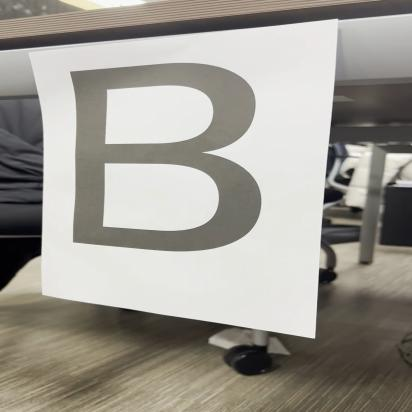seat: (43, 56, 278, 264)
